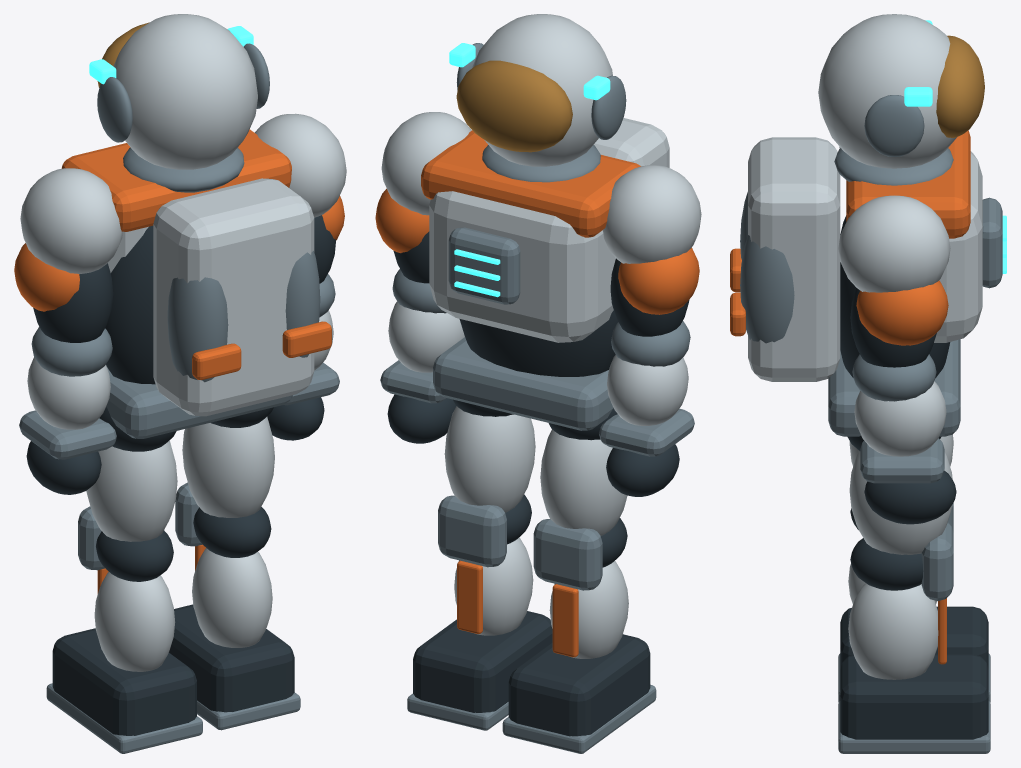
Rendered from survey_suit.glb.
3 views of the same model, side by side, from view 1: azimuth 30°, elevation 25°; view 2: azimuth 150°, elevation 25°; view 3: azimuth 270°, elevation 25° (orthographic).
Parts seen in each view (by area): view 1: TorsoMesh, LeftLegMesh, RightLegMesh, LeftArmMesh, RightArmMesh; view 2: TorsoMesh, LeftLegMesh, RightLegMesh, LeftArmMesh, RightArmMesh; view 3: TorsoMesh, RightLegMesh, RightArmMesh, LeftLegMesh.
Part boxes in pixels (bbox=[...]): TorsoMesh: bbox=[61, 14, 331, 438]; LeftLegMesh: bbox=[46, 407, 202, 753]; RightLegMesh: bbox=[169, 407, 300, 730]; LeftArmMesh: bbox=[14, 168, 122, 494]; RightArmMesh: bbox=[254, 113, 346, 440]; TorsoMesh: bbox=[421, 14, 669, 430]; LeftLegMesh: bbox=[502, 408, 656, 753]; RightLegMesh: bbox=[407, 399, 552, 730]; LeftArmMesh: bbox=[599, 165, 701, 496]; RightArmMesh: bbox=[375, 112, 471, 443]; TorsoMesh: bbox=[730, 14, 1006, 436]; RightLegMesh: bbox=[838, 435, 990, 753]; RightArmMesh: bbox=[838, 195, 956, 524]; LeftLegMesh: bbox=[838, 434, 990, 702].
Bounding box in the file's own units: 0.91 × 1.9 × 0.6905.
